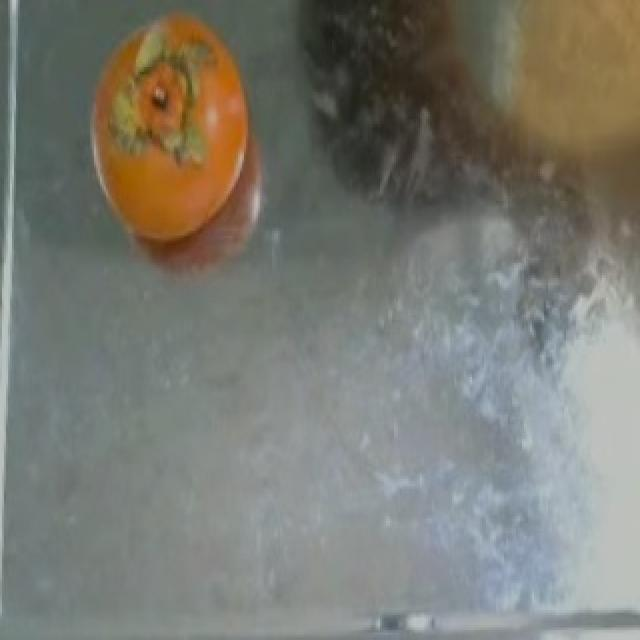Fruit: (70, 0, 270, 295), (478, 0, 640, 238)
